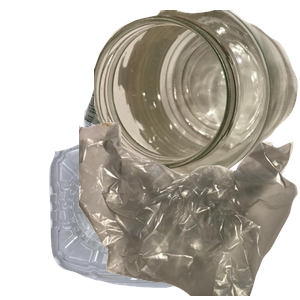glass: (94, 10, 300, 184)
metal: (81, 41, 234, 178)
plastic: (46, 130, 227, 300)
trash: (79, 120, 300, 300)
